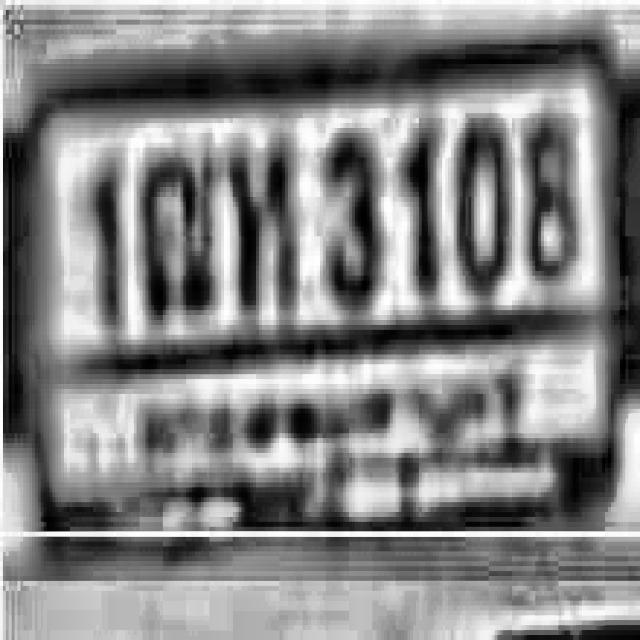license-plate: (19, 58, 622, 546)
